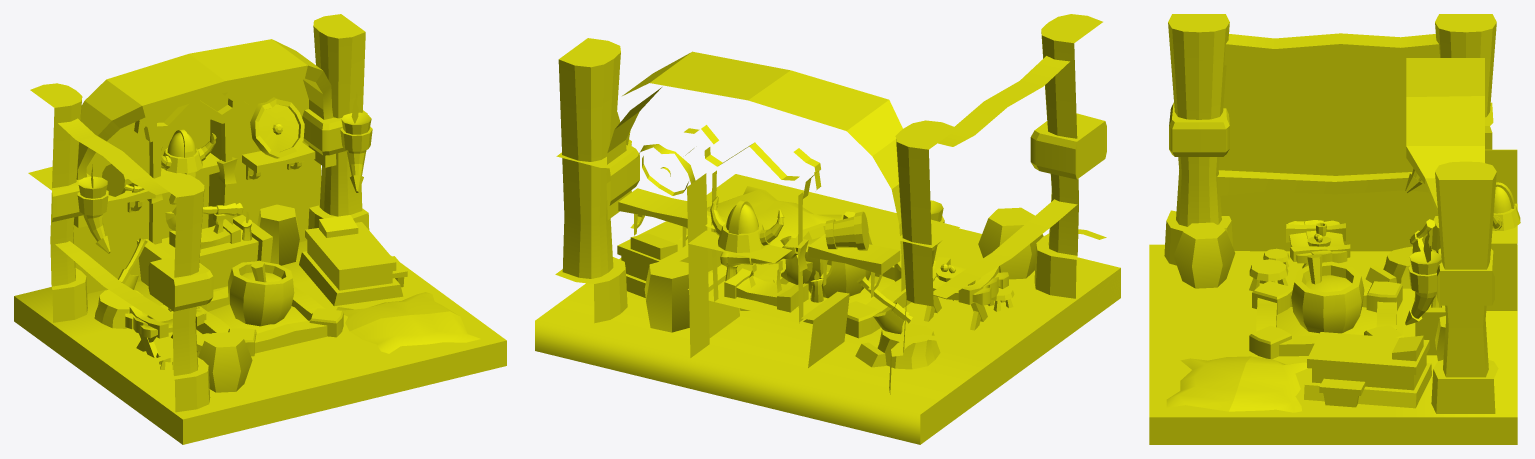
File: vikingroom.glb
3 views of the same model, side by side, from view 1: azimuth 30°, elevation 25°; view 2: azimuth 150°, elevation 25°; view 3: azimuth 270°, elevation 25° (orthographic). The views are drawn at different scales.
Parts seen in each view (by area): view 1: mesh_all1; view 2: mesh_all1; view 3: mesh_all1.
Part boxes in pixels (x1=…): mesh_all1: x1=14, y1=14, x2=506, y2=444; mesh_all1: x1=535, y1=14, x2=1120, y2=444; mesh_all1: x1=1149, y1=14, x2=1520, y2=444.
Bounding box in the file's own units: 0.2631 × 0.186 × 0.2391.
Materials: 1 (1 with a texture image).
